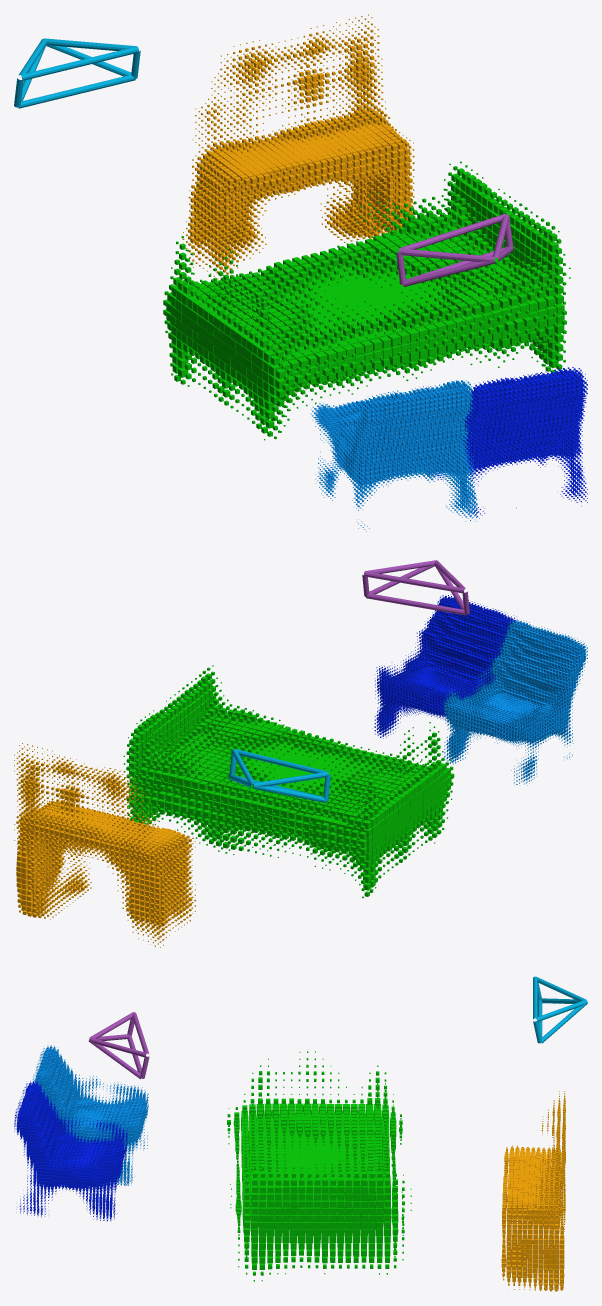
Rendered from Prediction.glb.
The picture shows the model from 3 angles, top to bottom: view 1: azimuth 30°, elevation 25°; view 2: azimuth 150°, elevation 25°; view 3: azimuth 270°, elevation 25°; orthographic projection. The views are drawn at different scales.
Visible parts, largest first — view 1: Node; view 2: Node; view 3: Node.
Part boxes in pixels (box(x1,y1,x2,y2)): Node: box(14, 14, 587, 531); Node: box(14, 560, 587, 947); Node: box(14, 976, 587, 1291).
Bounding box in the file's own units: 2.58 × 1.67 × 4.66.
